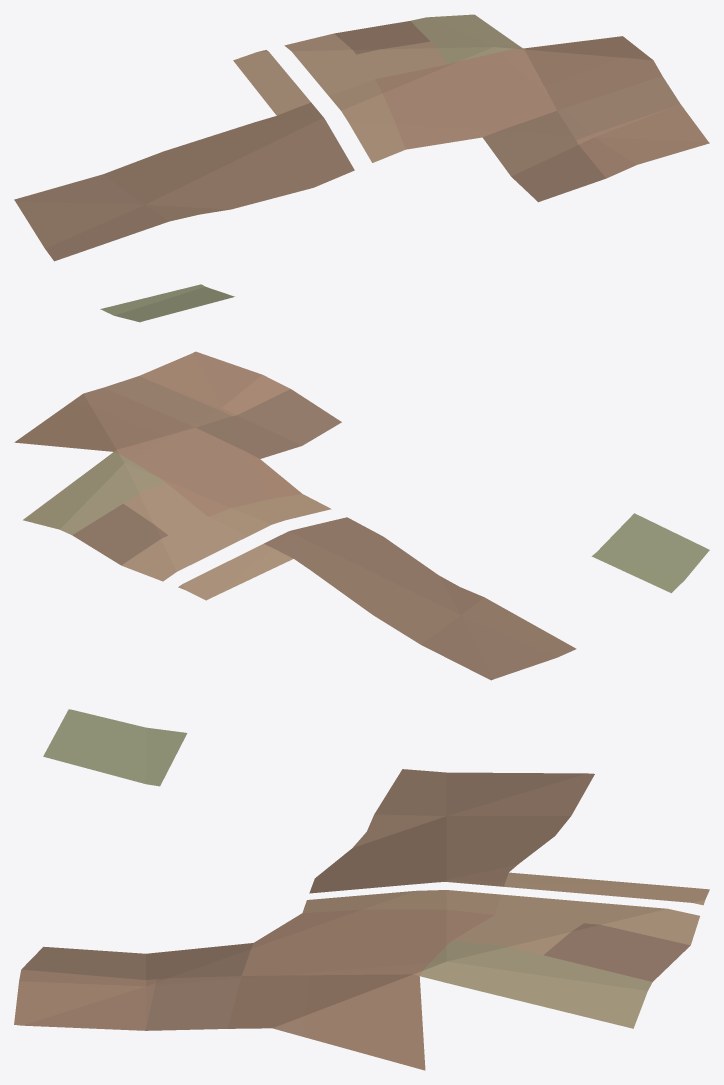
The model's file is farm_-9_-7_soil.glb.
The picture shows the model from 3 angles, top to bottom: view 1: azimuth 30°, elevation 25°; view 2: azimuth 150°, elevation 25°; view 3: azimuth 270°, elevation 25°; orthographic projection. The views are drawn at different scales.
Visible parts, largest first — view 1: geometry_0; view 2: geometry_0; view 3: geometry_0.
Boxes of the visible parts, x1=… form: geometry_0: x1=14, y1=14, x2=709, y2=322; geometry_0: x1=14, y1=351, x2=709, y2=680; geometry_0: x1=14, y1=709, x2=709, y2=1070.
Size of the model in its own units: 276 by 42.69 by 185.
